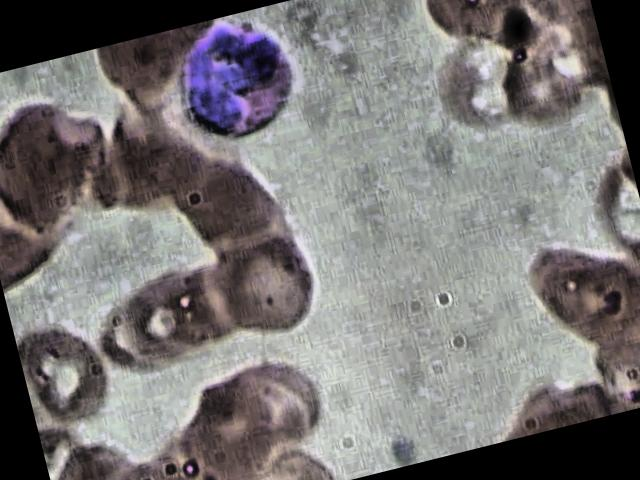Platelets: (378, 424, 429, 470)
RBC: (0, 82, 129, 247), (514, 218, 640, 371), (200, 225, 334, 348), (420, 19, 554, 142), (230, 340, 342, 463), (14, 308, 124, 431), (110, 262, 212, 374), (177, 156, 285, 252)
WBC: (157, 6, 311, 162)
